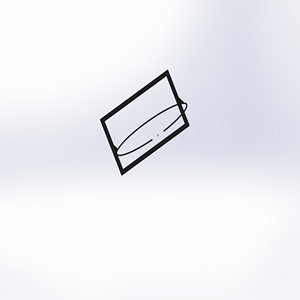circle: (99, 66, 192, 176)
